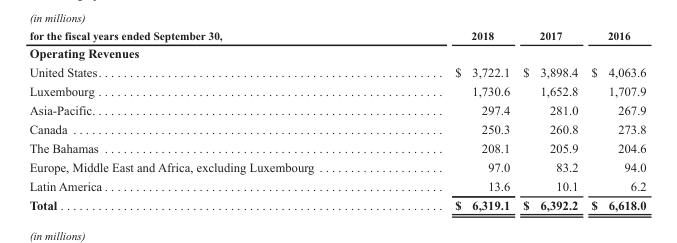table: (28, 28, 645, 212)
table column: (28, 28, 383, 212), (383, 28, 515, 212), (515, 28, 583, 212), (583, 28, 645, 212)
table column header: (28, 28, 645, 43)
table projected row header: (28, 43, 645, 62)
table row: (28, 43, 645, 62), (28, 62, 645, 81), (28, 81, 645, 100), (28, 100, 645, 119), (28, 119, 645, 138), (28, 138, 645, 157), (28, 157, 645, 176), (28, 176, 645, 195), (28, 195, 645, 212), (28, 28, 645, 43)
